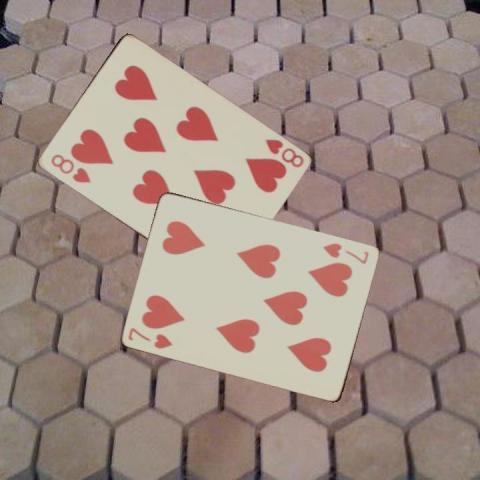7h: (320, 239, 371, 266), (125, 324, 174, 350)
8h: (47, 150, 92, 184), (262, 136, 305, 169)
